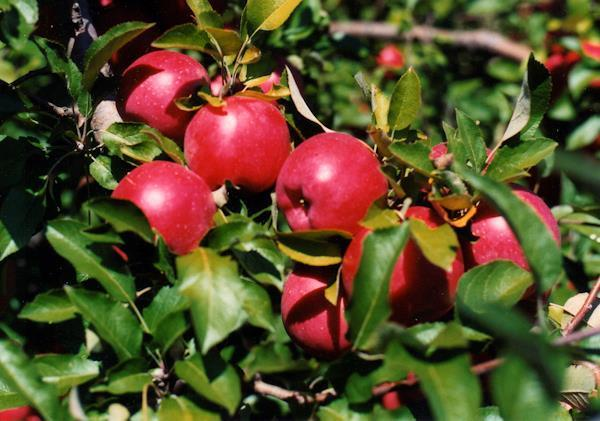apple: (274, 133, 386, 233), (181, 99, 291, 197), (112, 161, 215, 255), (113, 50, 214, 141), (282, 266, 357, 354)
